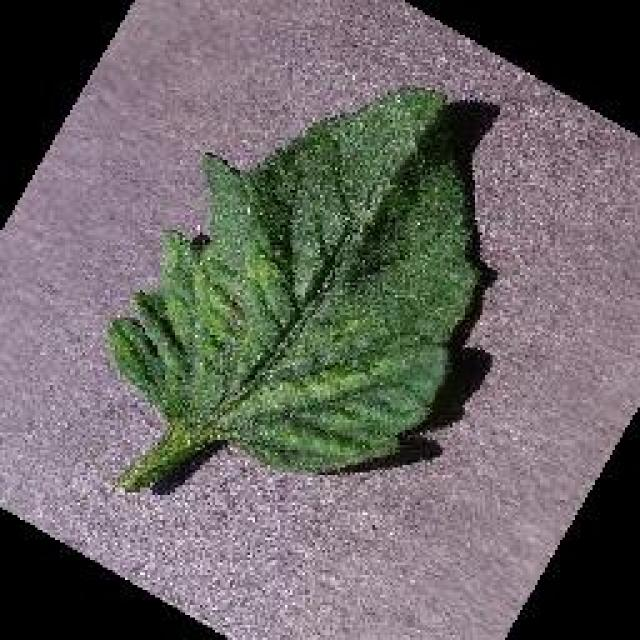Tomato___Tomato_mosaic_virus: (110, 88, 478, 482)
